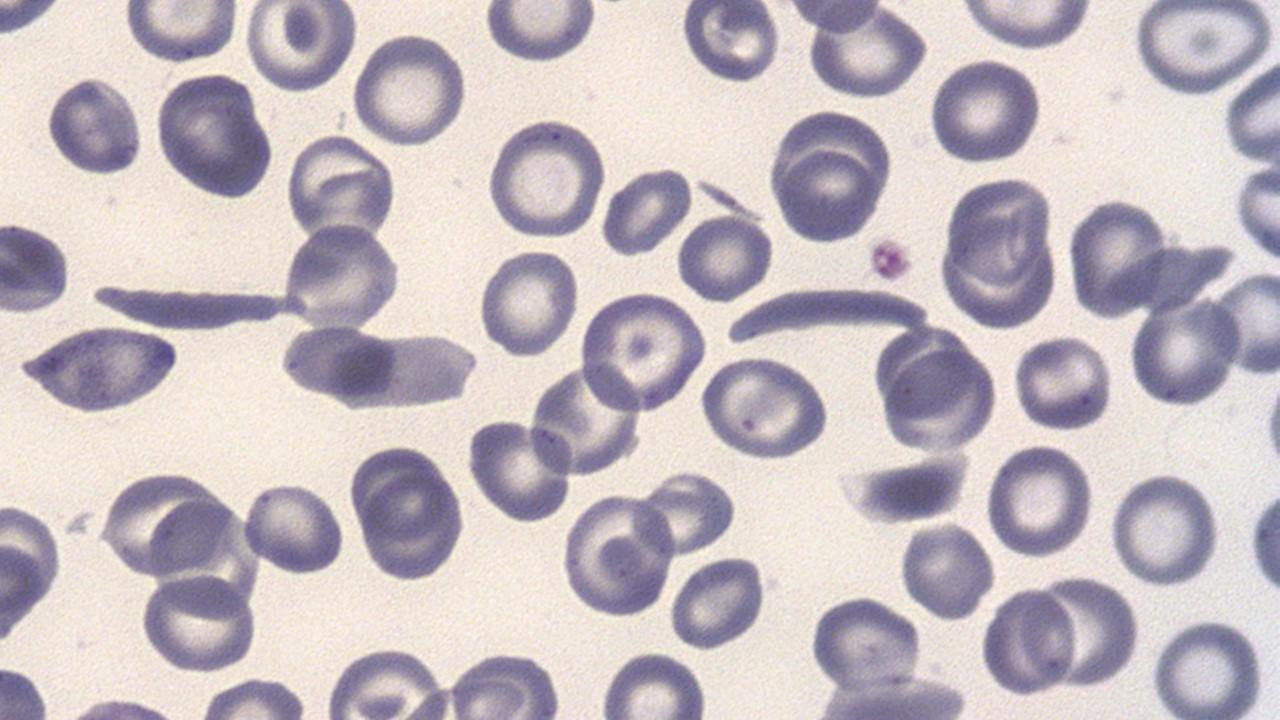Platelets: (40, 74, 146, 179), (844, 458, 966, 526)
RBC: (2, 0, 378, 334), (150, 67, 273, 202), (578, 289, 710, 414), (484, 113, 610, 239), (558, 486, 676, 618), (350, 29, 470, 148), (698, 354, 833, 459), (1129, 1, 1275, 97), (1025, 572, 1141, 690), (279, 221, 404, 330), (526, 360, 642, 477), (1107, 470, 1223, 587), (983, 440, 1097, 558), (1127, 294, 1241, 409), (1066, 194, 1170, 318), (942, 170, 1053, 286), (926, 57, 1045, 164), (879, 350, 1000, 454), (1146, 616, 1270, 717), (282, 132, 398, 239), (137, 574, 259, 674), (354, 474, 466, 582), (475, 246, 581, 359), (806, 592, 924, 692), (464, 416, 573, 523), (805, 6, 929, 100), (43, 71, 150, 175), (241, 1, 360, 94), (982, 582, 1075, 696), (667, 552, 770, 652), (1012, 332, 1116, 431), (240, 479, 346, 576), (896, 520, 996, 622), (776, 147, 880, 245), (600, 162, 694, 261), (672, 212, 776, 301), (0, 510, 55, 677), (636, 470, 738, 558), (678, 2, 784, 85), (448, 648, 564, 718), (596, 650, 710, 718), (1212, 266, 1280, 377), (482, 1, 598, 65), (122, 2, 240, 63), (0, 218, 74, 315), (958, 1, 1096, 51), (1221, 56, 1279, 168), (1231, 154, 1279, 268), (1248, 478, 1280, 609), (0, 0, 66, 36)
WBC: (794, 14, 1280, 691), (13, 323, 185, 418), (1222, 38, 1280, 277), (884, 348, 1002, 456), (42, 71, 147, 178)
